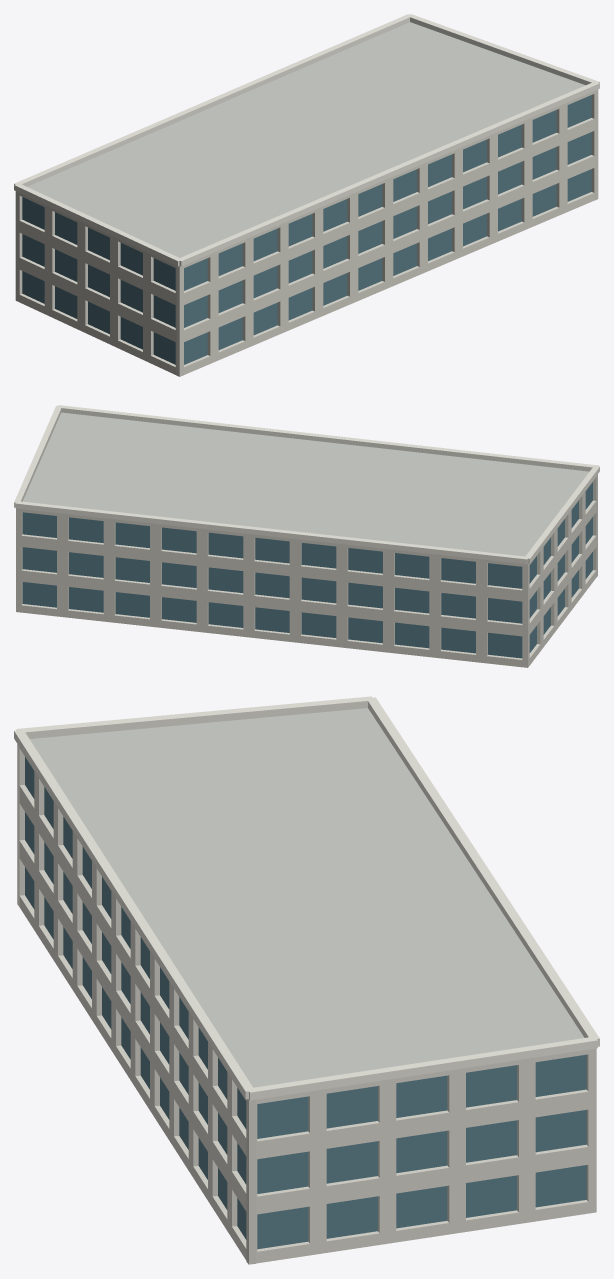
The model's file is sb_732494278.far.glb.
3 views of the same model, one above another, from view 1: azimuth 30°, elevation 25°; view 2: azimuth 150°, elevation 25°; view 3: azimuth 270°, elevation 25° (orthographic). The views are drawn at different scales.
Visible parts, largest first — view 1: roof, wall, glass, trim; view 2: roof, wall, glass, trim; view 3: roof, wall, glass, trim.
Boxes of the visible parts, x1,y1,x2,y2 form: roof: (27, 22, 585, 257); wall: (15, 89, 598, 376); glass: (22, 95, 591, 364); trim: (14, 14, 599, 266); roof: (23, 412, 589, 556); wall: (16, 474, 597, 667); glass: (22, 482, 592, 658); trim: (14, 405, 599, 564); roof: (29, 708, 584, 1087); wall: (17, 744, 596, 1264); glass: (25, 757, 586, 1249); trim: (14, 696, 599, 1100).
Size of the model in its own units: 47.77 by 9.74 by 29.85.
